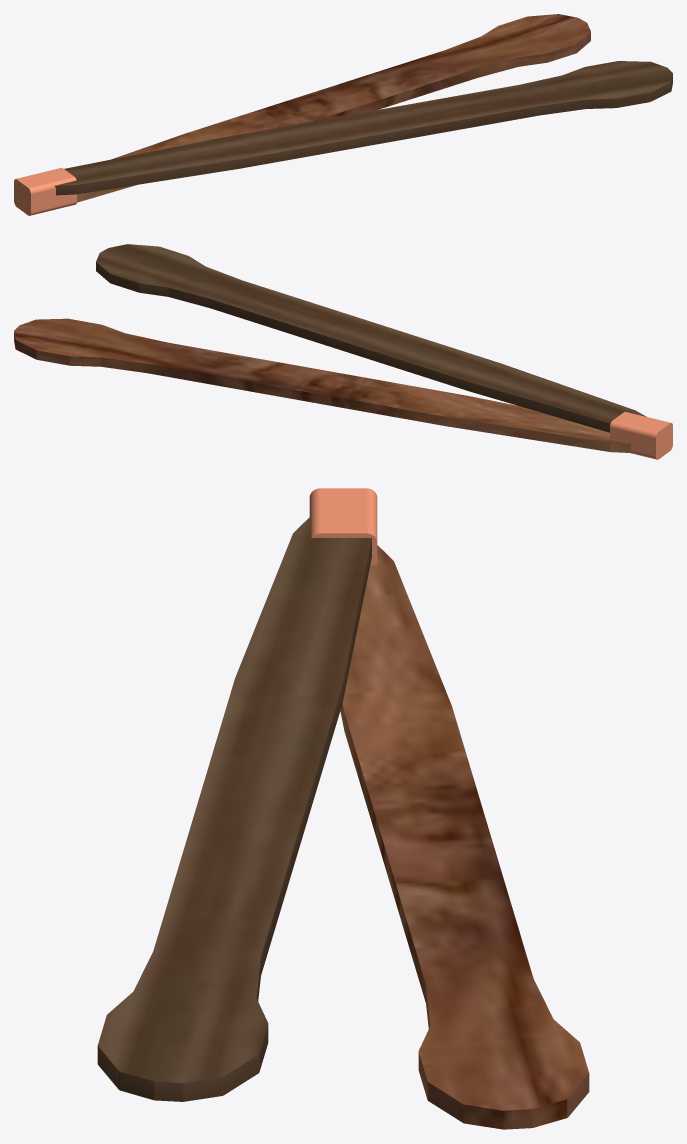
The model's file is Handtools_wooden_tongs__0000.glb.
3 renders of one model, top to bottom at view 1: azimuth 30°, elevation 25°; view 2: azimuth 150°, elevation 25°; view 3: azimuth 270°, elevation 25°, orthographic. The views are drawn at different scales.
Visible parts, largest first — view 1: moving_arm::arm_strip_1, fixed_arm::arm_strip_0, fixed_arm::spring_clip; view 2: fixed_arm::arm_strip_0, moving_arm::arm_strip_1, fixed_arm::spring_clip; view 3: moving_arm::arm_strip_1, fixed_arm::arm_strip_0, fixed_arm::spring_clip.
Part boxes in pixels (left/top/right/bottom): moving_arm::arm_strip_1: left=54, top=61, right=672, bottom=195; fixed_arm::arm_strip_0: left=77, top=14, right=590, bottom=202; fixed_arm::spring_clip: left=14, top=167, right=76, bottom=215; fixed_arm::arm_strip_0: left=14, top=318, right=632, bottom=453; moving_arm::arm_strip_1: left=96, top=244, right=646, bottom=432; fixed_arm::spring_clip: left=610, top=411, right=672, bottom=459; moving_arm::arm_strip_1: left=97, top=516, right=371, bottom=1101; fixed_arm::arm_strip_0: left=340, top=545, right=589, bottom=1129; fixed_arm::spring_clip: left=309, top=488, right=377, bottom=565.
Size of the model in its own units: 0.2883 by 0.0126 by 0.1014.
3 materials, 3 textured.
